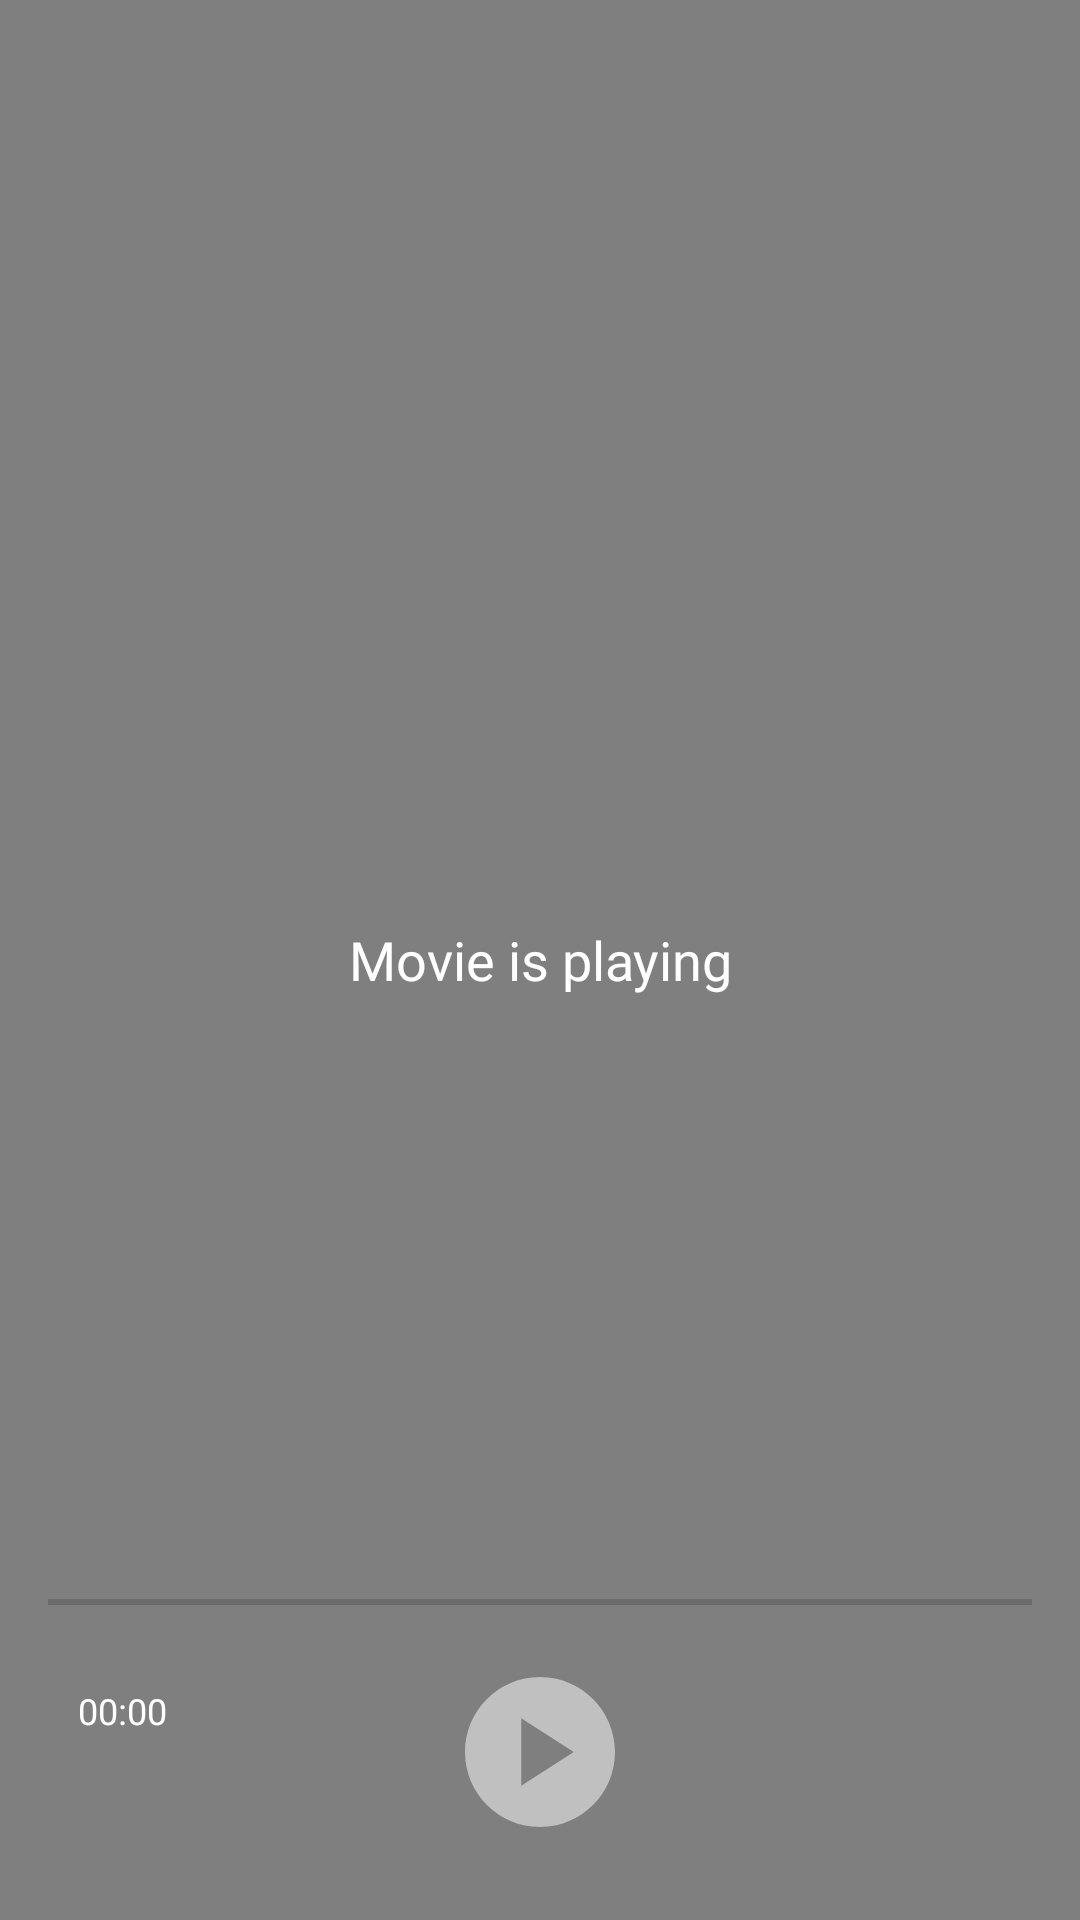

Icons on this 1080*1920 Android screen, each with the point to tap as (x,y):
Play: (540,1752)
